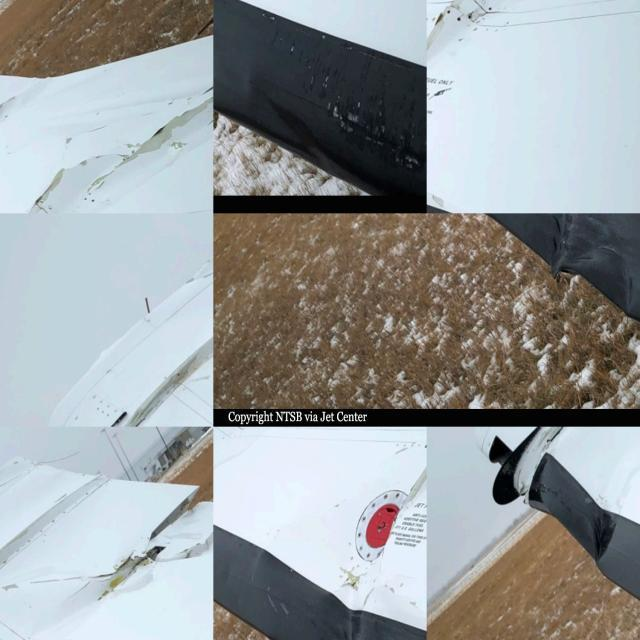crack: (95, 489, 210, 603), (92, 98, 214, 195), (429, 2, 457, 54), (28, 174, 62, 211)
